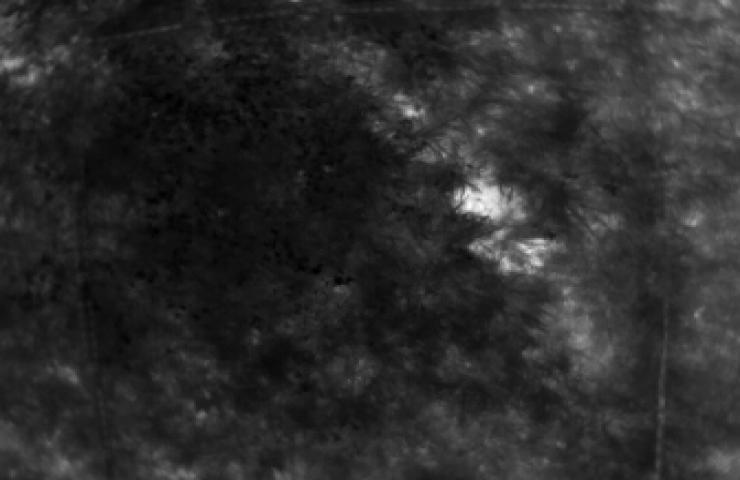landmines: (450, 178, 529, 222)
